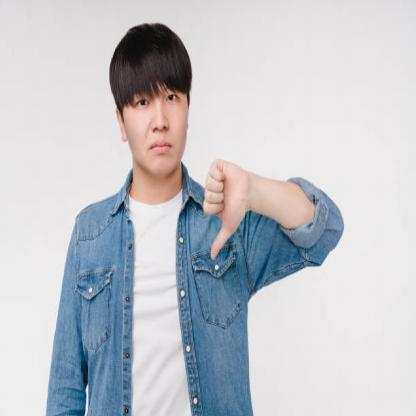thumb_down: (199, 155, 248, 262)
